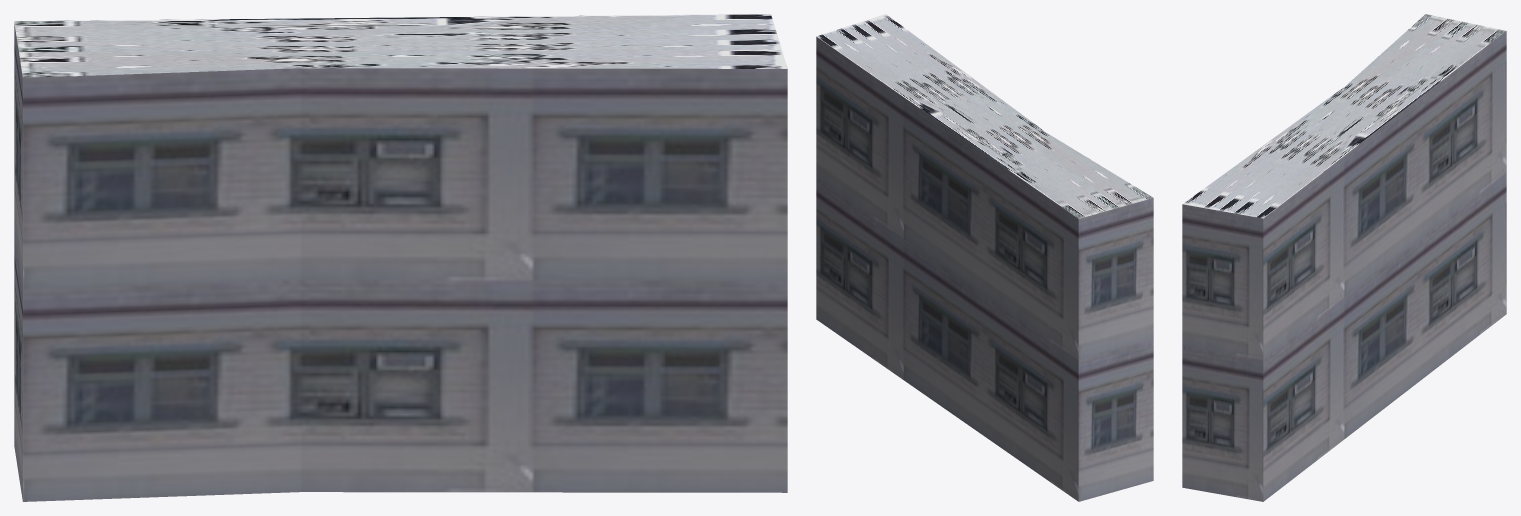
File: ResTex__4897.fbx
The picture shows the model from 3 angles, left to right: view 1: azimuth 30°, elevation 25°; view 2: azimuth 150°, elevation 25°; view 3: azimuth 270°, elevation 25°; orthographic projection. The views are drawn at different scales.
Parts seen in each view (by area): view 1: CityEngineMaterial_1_m, CityEngineMaterial_m; view 2: CityEngineMaterial_1_m, CityEngineMaterial_m; view 3: CityEngineMaterial_1_m, CityEngineMaterial_m.
Boxes of the visible parts, x1=… form: CityEngineMaterial_1_m: x1=14, y1=23, x2=787, y2=501; CityEngineMaterial_m: x1=14, y1=14, x2=787, y2=77; CityEngineMaterial_1_m: x1=816, y1=36, x2=1153, y2=501; CityEngineMaterial_m: x1=816, y1=14, x2=1153, y2=218; CityEngineMaterial_1_m: x1=1182, y1=31, x2=1506, y2=501; CityEngineMaterial_m: x1=1183, y1=14, x2=1505, y2=218.
Size of the model in its own units: 9.28 by 6 by 6.22.
2 materials, 2 textured.
